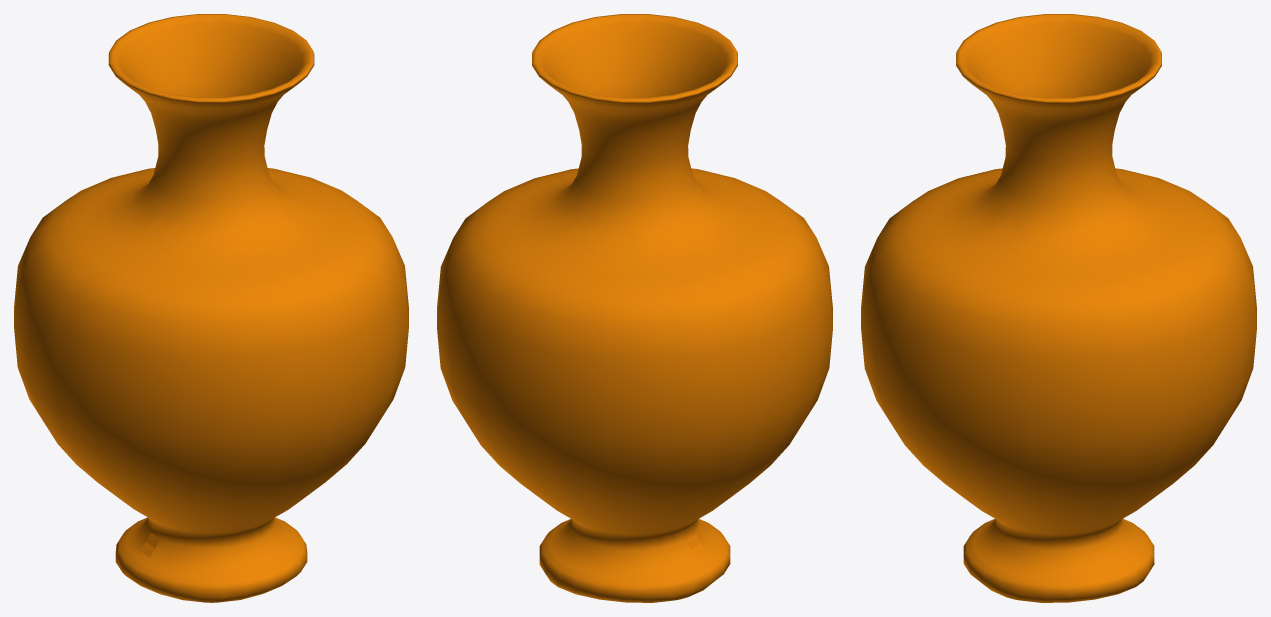
File: vasija4.fbx
The picture shows the model from 3 angles, left to right: view 1: azimuth 30°, elevation 25°; view 2: azimuth 150°, elevation 25°; view 3: azimuth 270°, elevation 25°; orthographic projection.
Parts seen in each view (by area): view 1: Vasija.2; view 2: Vasija.2; view 3: Vasija.2.
Part boxes in pixels (x1,y1,x2,y2): Vasija.2: (14,14,408,602); Vasija.2: (437,14,832,602); Vasija.2: (861,14,1256,602).
Size of the model in its own units: 0.4553 by 0.6505 by 0.4554.
